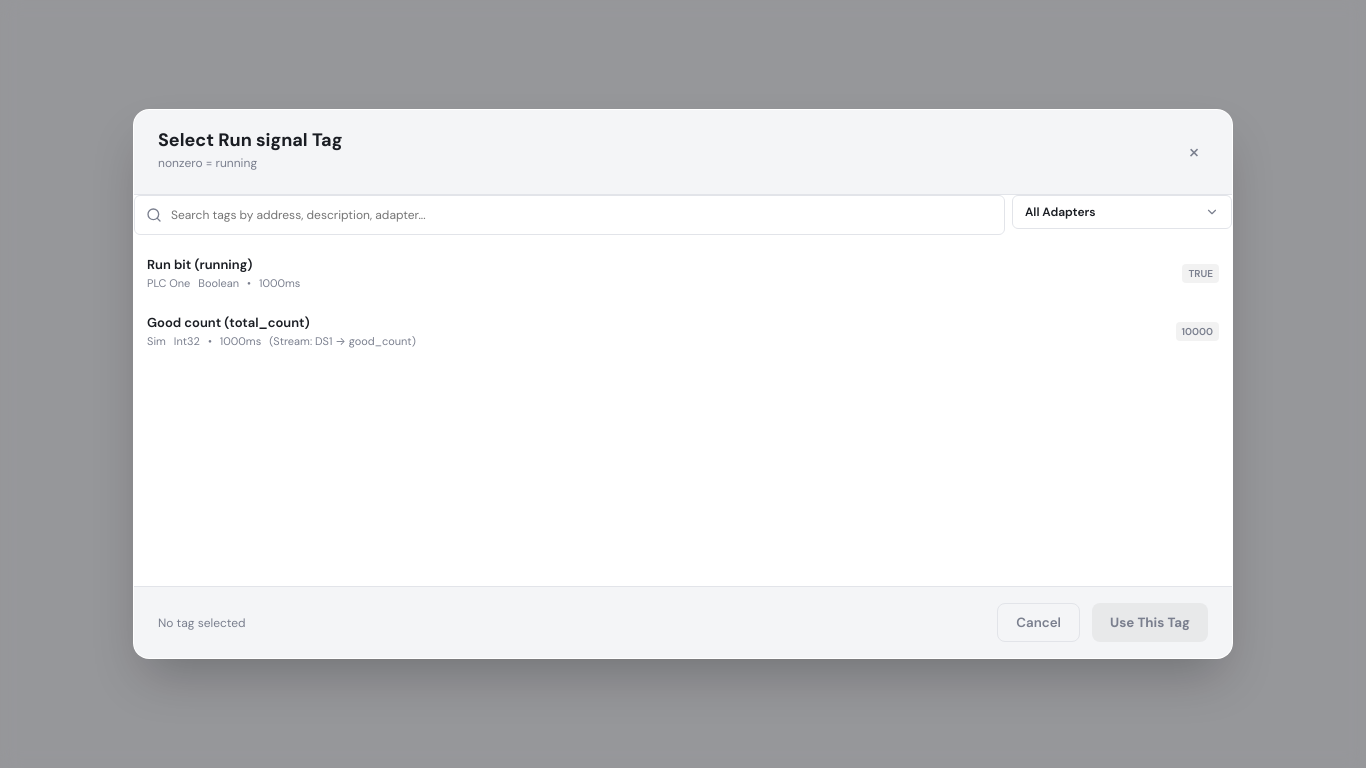
Test case: OeeTagBrowserModal › adapter filter narrows the list
Click the button "All Adapters": (1122, 212) 1012,195 -> 1232,229
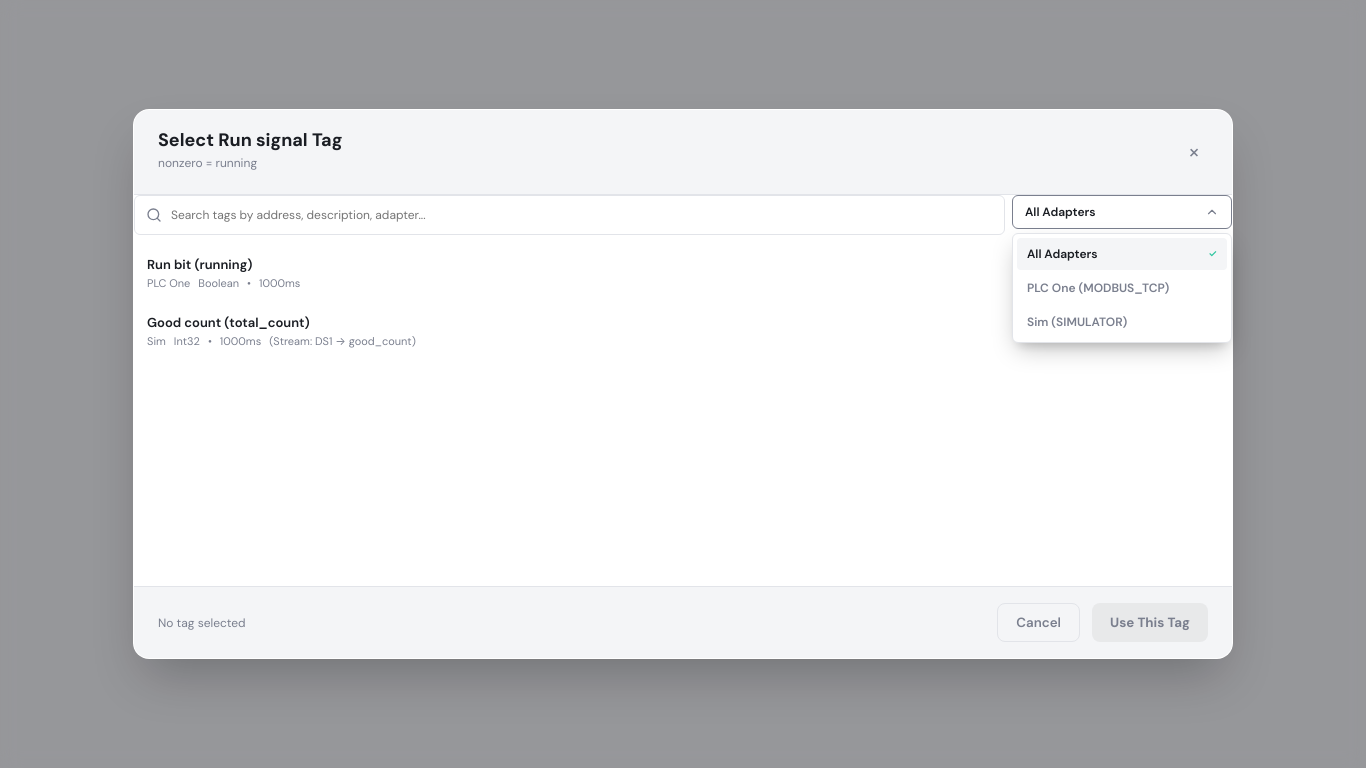
Click the button "Sim (SIMULATOR)": (1122, 322) 1017,306 -> 1227,338
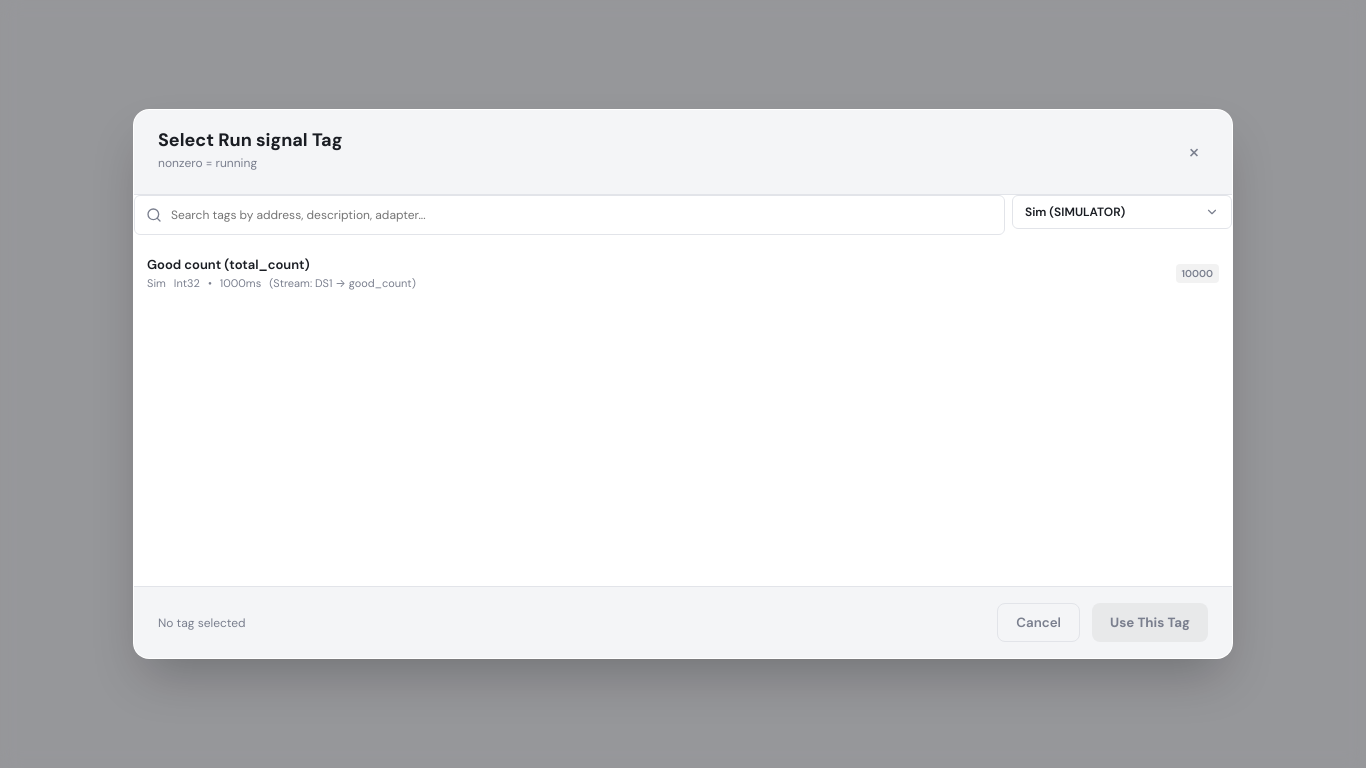
Expected: the text "Good count (total_count)" is shown, 147,256 -> 310,273
Result: the text "Run bit (running)" is gone
